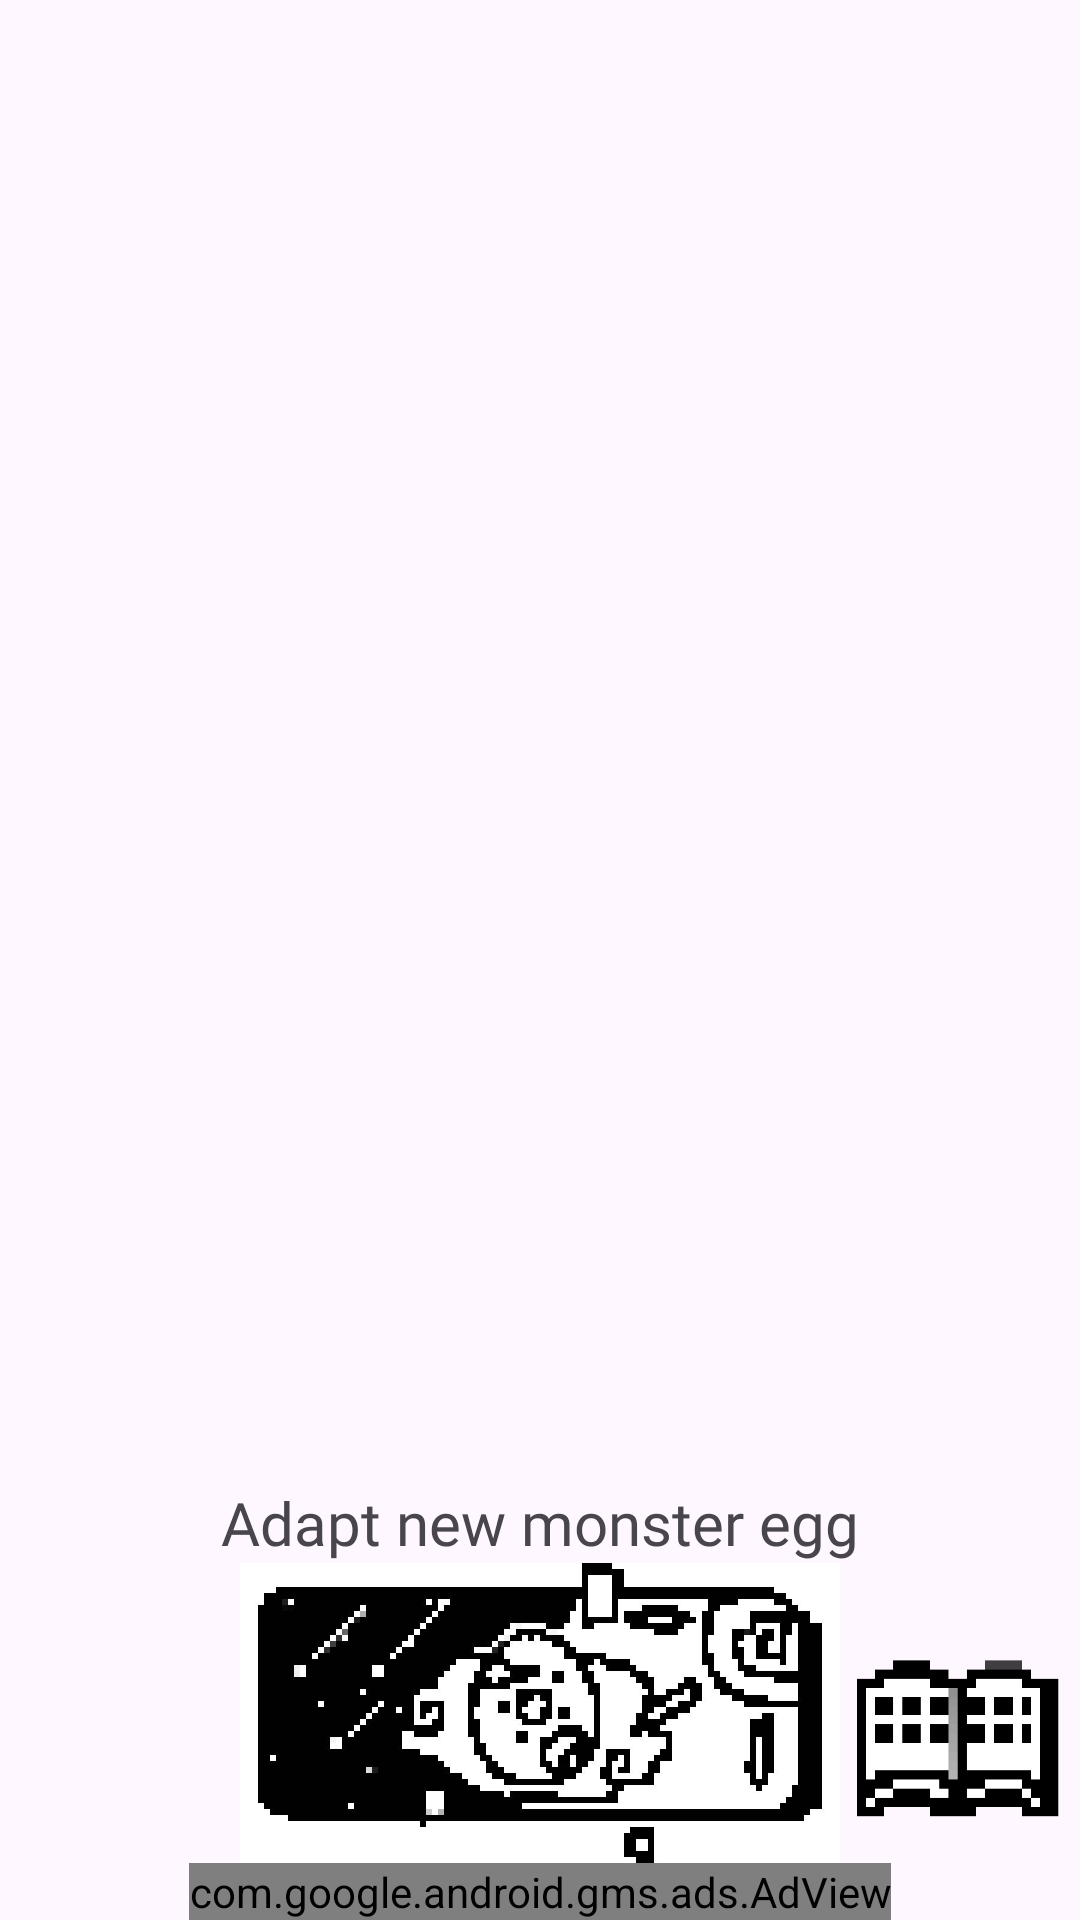

Icon click points for this 1080w x 1920h phone screenshot, format (x,y):
monster index: (958,1738)
